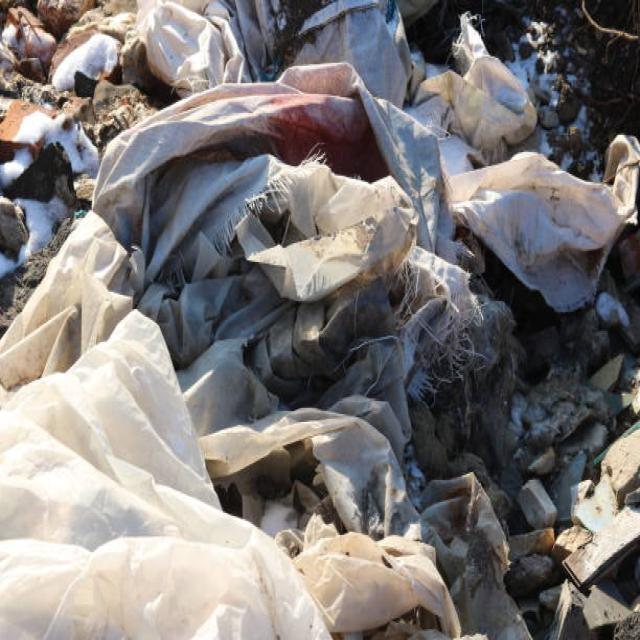trash: (67, 50, 559, 480)
